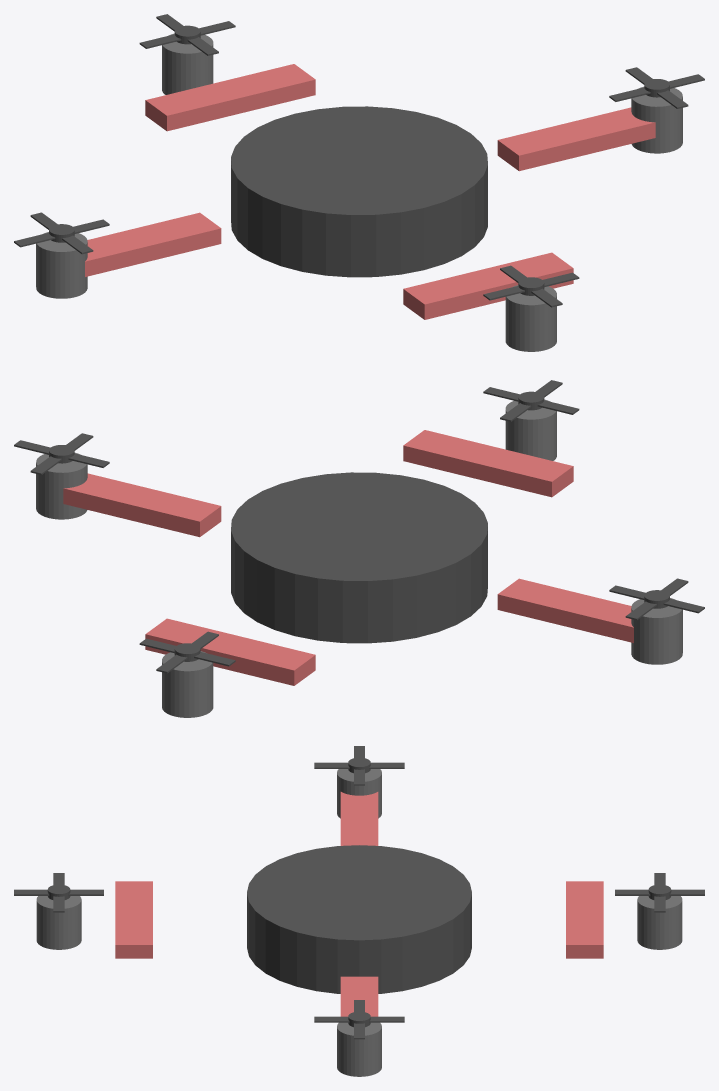
3 renders of one model, top to bottom at view 1: azimuth 30°, elevation 25°; view 2: azimuth 150°, elevation 25°; view 3: azimuth 270°, elevation 25°, orthographic. The views are drawn at different scales.
Visible parts, largest first — view 1: Drone_Body, Drone_Arm_3, Drone_Arm_1, Drone_Arm_2, Drone_Arm_4, Motor_4, Motor_2, Motor_3, Motor_1, Propeller_Blade1_3, Propeller_Blade1_2, Propeller_Blade1_4 (+1 smaller); view 2: Drone_Body, Drone_Arm_4, Drone_Arm_1, Drone_Arm_2, Drone_Arm_3, Motor_3, Motor_2, Motor_4, Motor_1, Propeller_Blade1_4, Propeller_Blade1_2, Propeller_Blade1_3 (+1 smaller); view 3: Drone_Body, Drone_Arm_3, Drone_Arm_4, Motor_3, Motor_4, Motor_1, Drone_Arm_2, Drone_Arm_1, Motor_2.
Boxes of the visible parts, box(x1,y1,x2,y2) form: Drone_Body: box(231, 106, 487, 277); Drone_Arm_3: box(145, 64, 315, 131); Drone_Arm_1: box(497, 107, 655, 171); Drone_Arm_2: box(85, 212, 221, 276); Drone_Arm_4: box(403, 252, 573, 319); Motor_4: box(505, 285, 556, 351); Motor_2: box(36, 232, 87, 298); Motor_3: box(162, 33, 213, 94); Motor_1: box(631, 86, 682, 153); Propeller_Blade1_3: box(139, 21, 235, 48); Propeller_Blade1_2: box(14, 219, 109, 247); Propeller_Blade1_4: box(483, 272, 579, 300); Drone_Body: box(231, 472, 487, 643); Drone_Arm_4: box(403, 430, 573, 497); Drone_Arm_1: box(63, 473, 221, 537); Drone_Arm_2: box(497, 578, 633, 642); Drone_Arm_3: box(145, 618, 315, 685); Motor_3: box(162, 651, 213, 717); Motor_2: box(631, 598, 682, 664); Motor_4: box(505, 399, 556, 460); Motor_1: box(36, 452, 87, 519); Propeller_Blade1_4: box(483, 387, 579, 414); Propeller_Blade1_2: box(609, 585, 704, 613); Propeller_Blade1_3: box(139, 638, 235, 666); Drone_Body: box(247, 845, 471, 993); Drone_Arm_3: box(566, 881, 603, 958); Drone_Arm_4: box(115, 881, 152, 958); Motor_3: box(637, 896, 682, 949); Motor_4: box(36, 896, 81, 949); Motor_1: box(337, 1022, 381, 1076); Drone_Arm_2: box(340, 792, 378, 845); Drone_Arm_1: box(340, 976, 378, 1016); Motor_2: box(337, 769, 381, 818).
Bounding box in the file's own units: 0.92 × 0.085 × 0.92.
